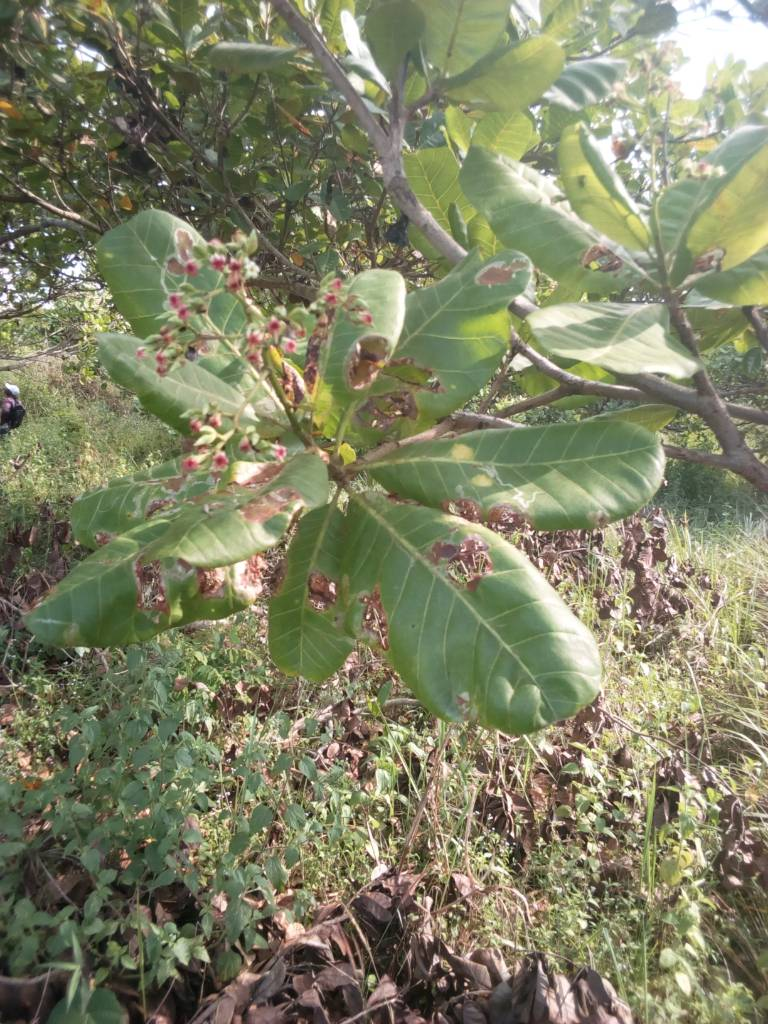Dysdercus wolkerii: (349, 485, 616, 758)
